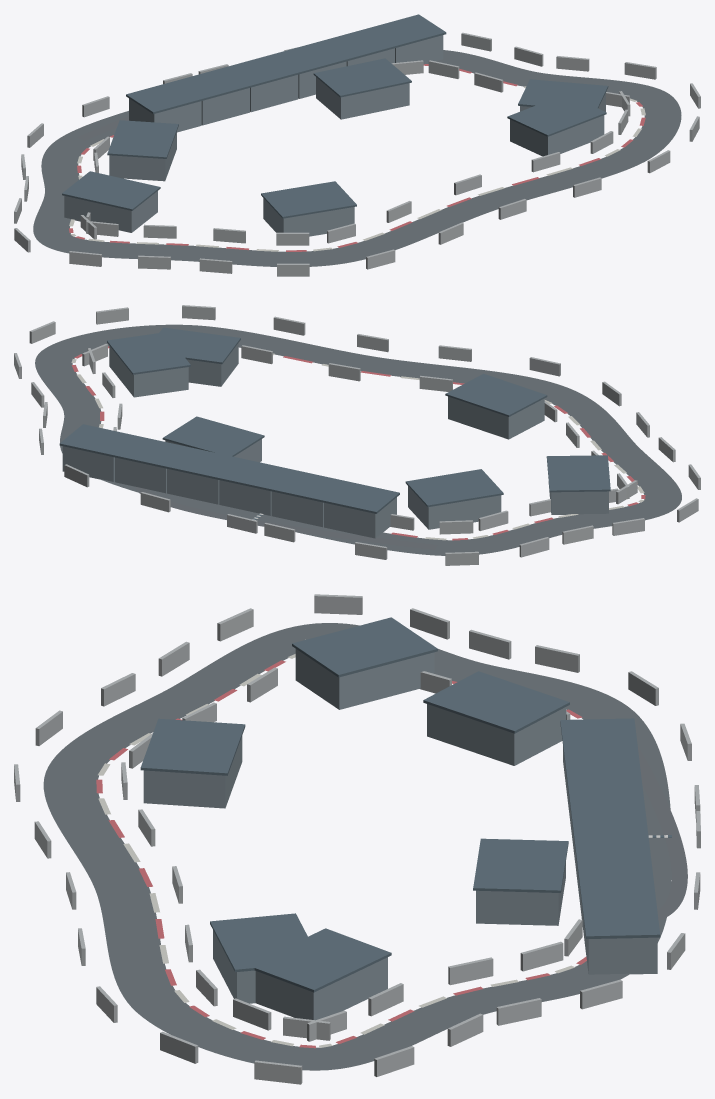
3 renders of one model, top to bottom at view 1: azimuth 30°, elevation 25°; view 2: azimuth 150°, elevation 25°; view 3: azimuth 270°, elevation 25°, orthographic. The views are drawn at different scales.
Visible parts, largest first — view 1: asphalt, grandstand_roof_0, grandstand_roof_4, grandstand_roof_3, grandstand_roof_5, grandstand_0, grandstand_roof_1, grandstand_2, grandstand_4, grandstand_roof_2, grandstand_3, grandstand_5 (+22 smaller); view 2: asphalt, grandstand_roof_3, grandstand_roof_5, grandstand_roof_1, grandstand_roof_0, grandstand_roof_4, grandstand_3, grandstand_roof_2, grandstand_5, grandstand_1, pit_building_0, pit_roof_0 (+32 smaller); view 3: asphalt, grandstand_roof_5, grandstand_roof_4, grandstand_roof_1, grandstand_roof_3, grandstand_roof_0, grandstand_5, grandstand_roof_2, grandstand_4, grandstand_1, grandstand_3, pit_roof_5 (+24 smaller).
Part boxes in pixels (x1,y1,x2,y2): asphalt: (33, 50, 681, 266); grandstand_roof_0: (313, 58, 411, 97); grandstand_roof_4: (62, 171, 160, 210); grandstand_roof_3: (261, 181, 356, 218); grandstand_roof_5: (107, 120, 178, 158); grandstand_0: (316, 77, 409, 119); grandstand_roof_1: (518, 79, 608, 110); grandstand_2: (510, 115, 604, 156); grandstand_4: (64, 191, 157, 232); grandstand_roof_2: (507, 94, 606, 136); grandstand_3: (263, 198, 354, 236); grandstand_5: (109, 131, 176, 181); asphalt: (35, 324, 681, 555); grandstand_roof_3: (445, 373, 547, 416); grandstand_roof_5: (405, 469, 503, 507); grandstand_roof_1: (107, 332, 190, 374); grandstand_roof_0: (162, 416, 264, 456); grandstand_roof_4: (546, 455, 610, 492); grandstand_3: (448, 396, 544, 439); grandstand_roof_2: (145, 327, 240, 364); grandstand_5: (408, 486, 501, 529); grandstand_1: (109, 345, 188, 397); pit_building_0: (324, 497, 396, 538); pit_roof_0: (321, 480, 399, 513); asphalt: (43, 623, 671, 1070); grandstand_roof_5: (423, 671, 569, 733); grandstand_roof_4: (292, 617, 437, 677); grandstand_roof_1: (248, 928, 391, 992); grandstand_roof_3: (140, 718, 245, 775); grandstand_roof_0: (473, 838, 568, 892); grandstand_5: (427, 704, 566, 765); grandstand_roof_2: (210, 913, 320, 972); grandstand_4: (295, 649, 434, 709); grandstand_1: (255, 957, 387, 1020); grandstand_3: (143, 736, 242, 808); pit_roof_5: (582, 897, 660, 938).
Bounding box in the file's own units: 64.89 × 2.64 × 39.81.
